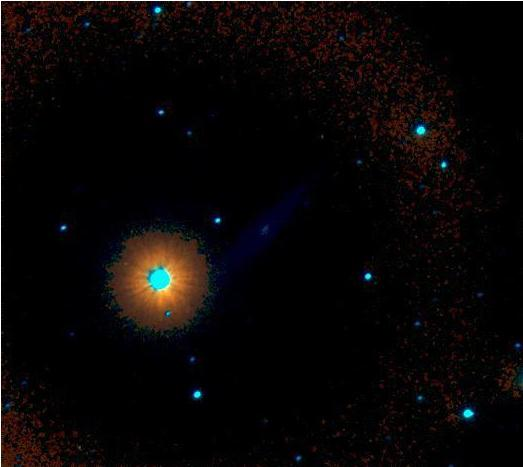star: (109, 247, 139, 277)
